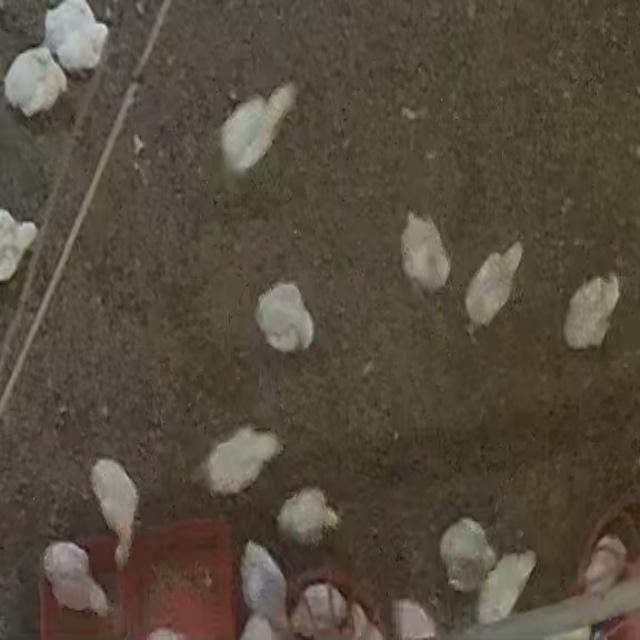chicken: (218, 78, 304, 178), (201, 424, 282, 496), (90, 456, 140, 570), (464, 241, 526, 332), (41, 541, 111, 621), (3, 44, 69, 119), (43, 0, 108, 75), (253, 279, 315, 355), (561, 271, 620, 349), (480, 549, 540, 624), (234, 540, 286, 624), (437, 516, 496, 590), (399, 212, 451, 292), (276, 485, 340, 547), (579, 535, 628, 598), (292, 583, 346, 637), (1, 207, 39, 282), (393, 598, 439, 640)
